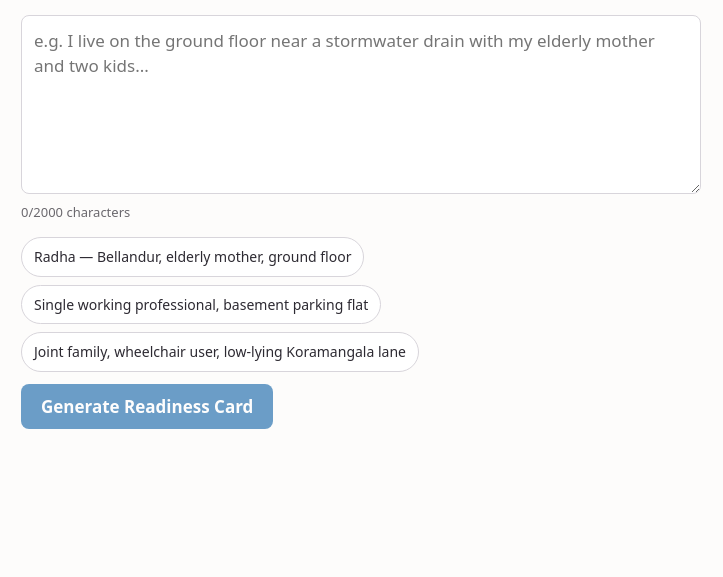
Test case: App › fetches and renders a translation when a language is selected
Step 1. Type "I live on the ground floor with my elderly mother and two kids." into the text box labelled "Tell us about your household" → (361, 104), box [21,14,701,194]
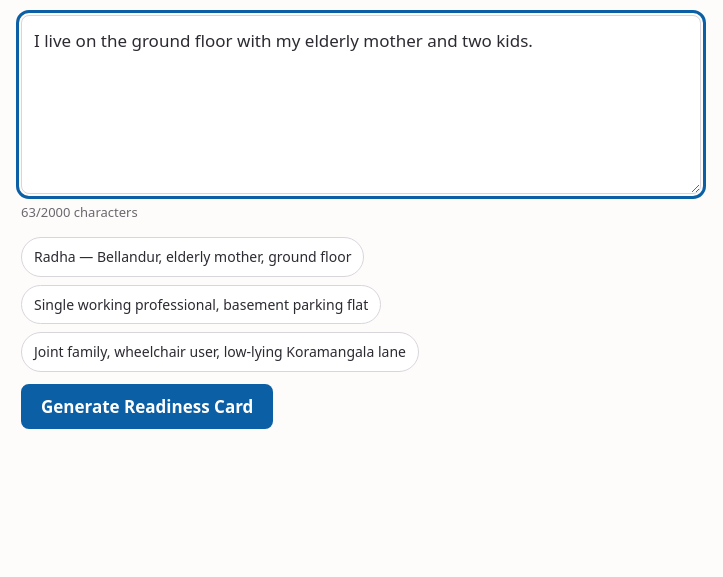
Step 2. Click the button "Generate Readiness Card" → (147, 406), box [21,384,273,429]
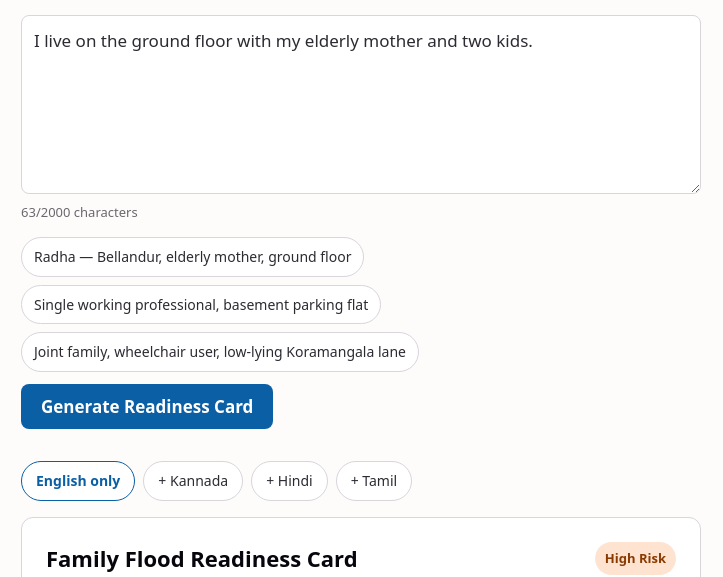
Step 3. Click the button "+ Kannada" → (193, 481), box [143,461,243,500]
(page scrolled)
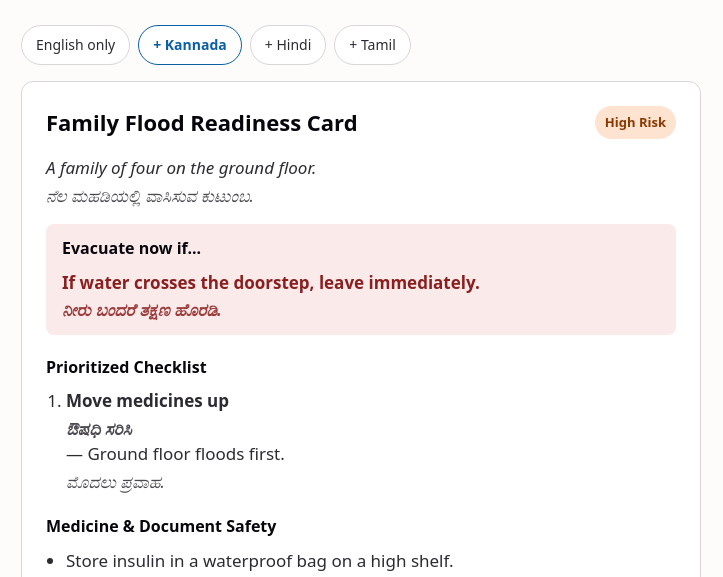
Expected: the text "ನೆಲ ಮಹಡಿಯಲ್ಲಿ ವಾಸಿಸುವ ಕುಟುಂಬ." is shown, [46,184,254,206]
